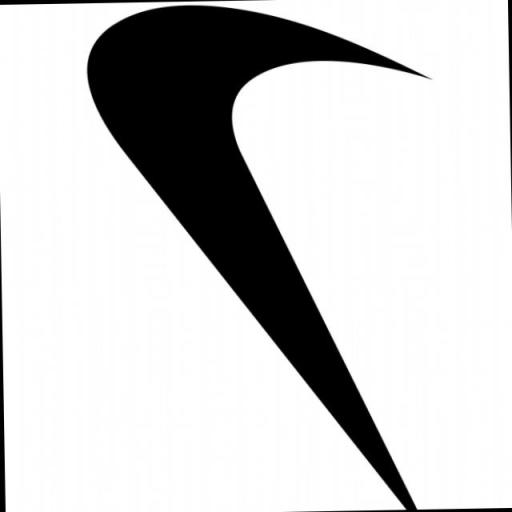Nike: (83, 3, 432, 512)
